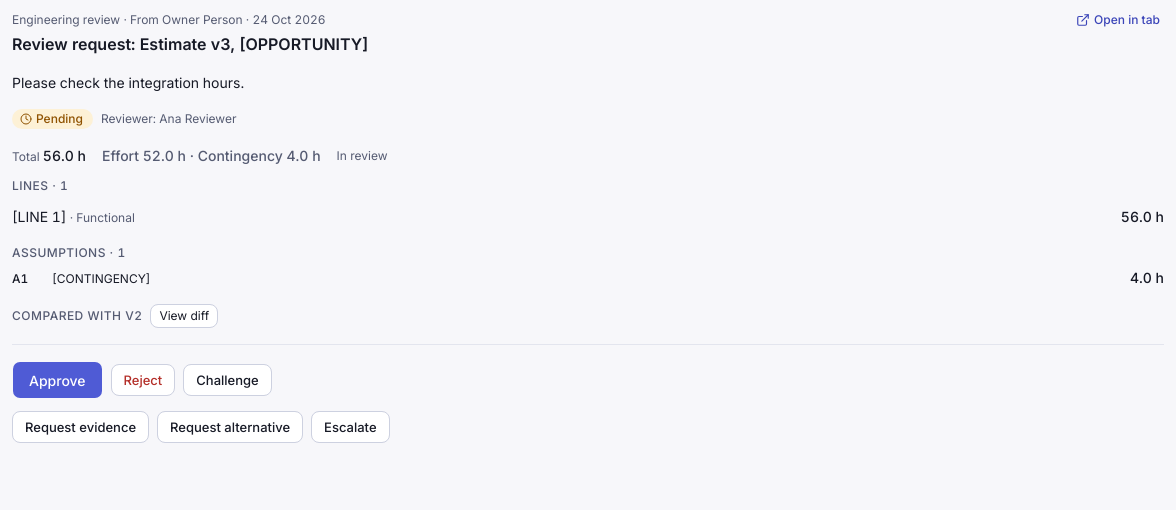
ReviewPanelView › shows another refusal's sentence inline
Click the button "Approve": (57, 380) top-left (12, 361), bottom-right (103, 399)
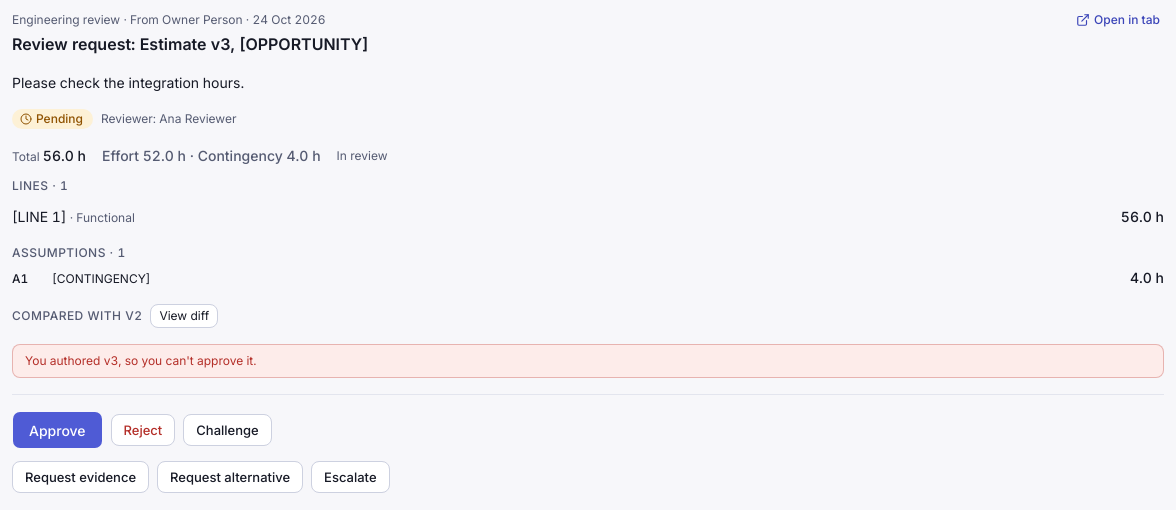
Now the message reads "You authored v3, so you can't approve it.", box top-left (25, 353), bottom-right (256, 368)
